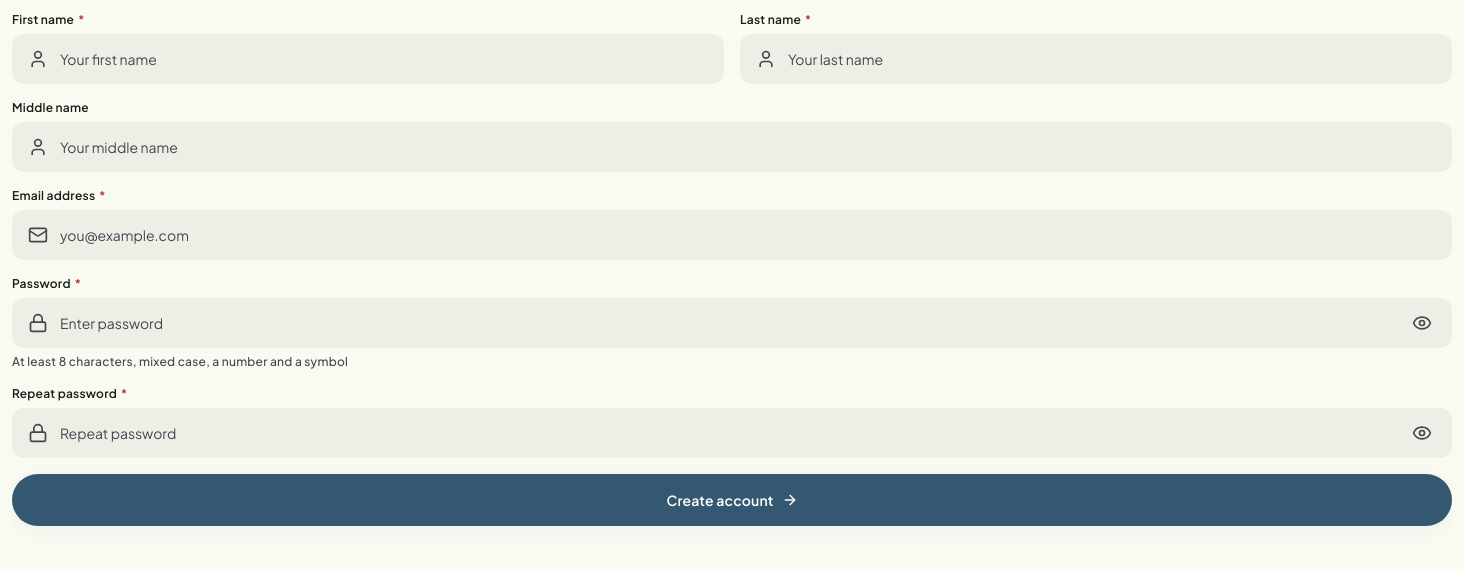
RegisterForm › shows the password rule on blur
Type "short" into the password field labelled "Password" at (732, 323), box [12, 298, 1452, 348]
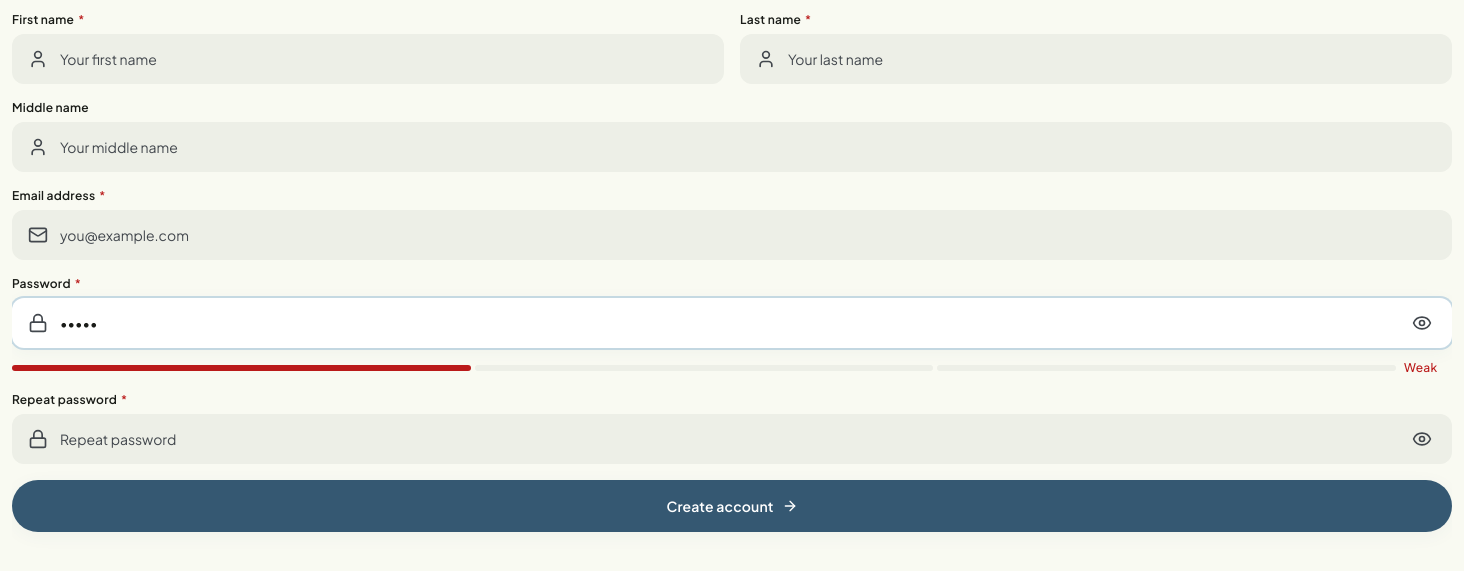
Press Tab
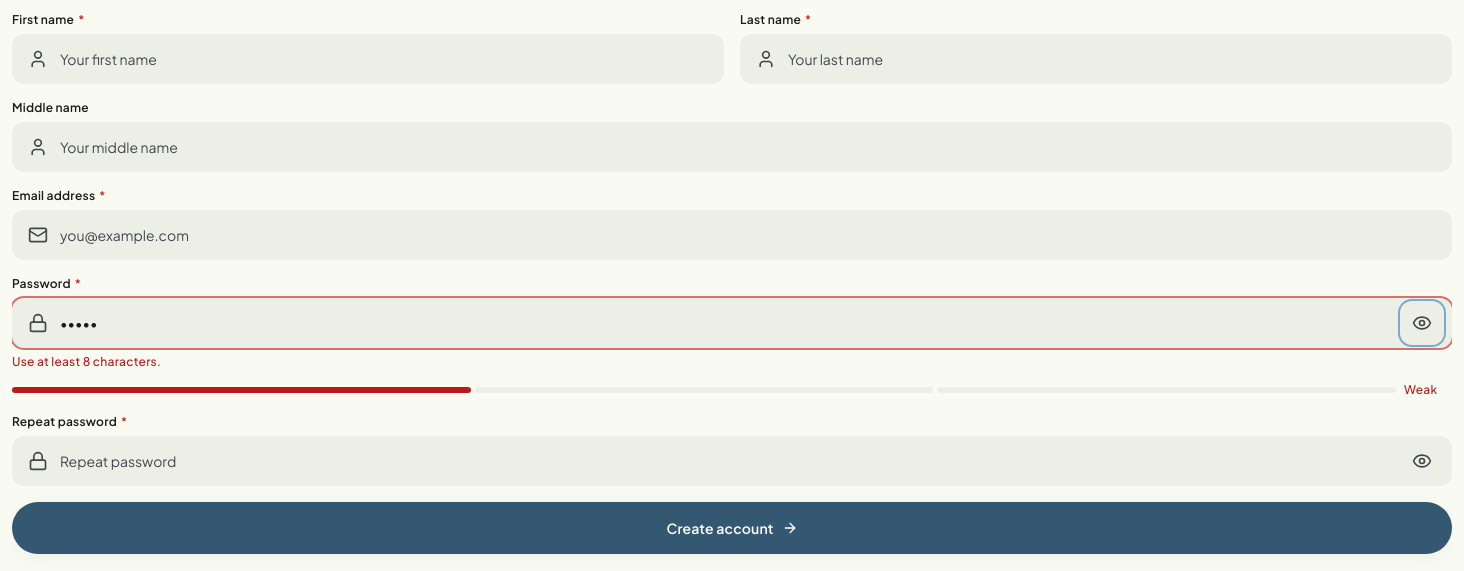
expect the text "Use at least 8 characters." is shown: met, box [12, 354, 161, 369]
